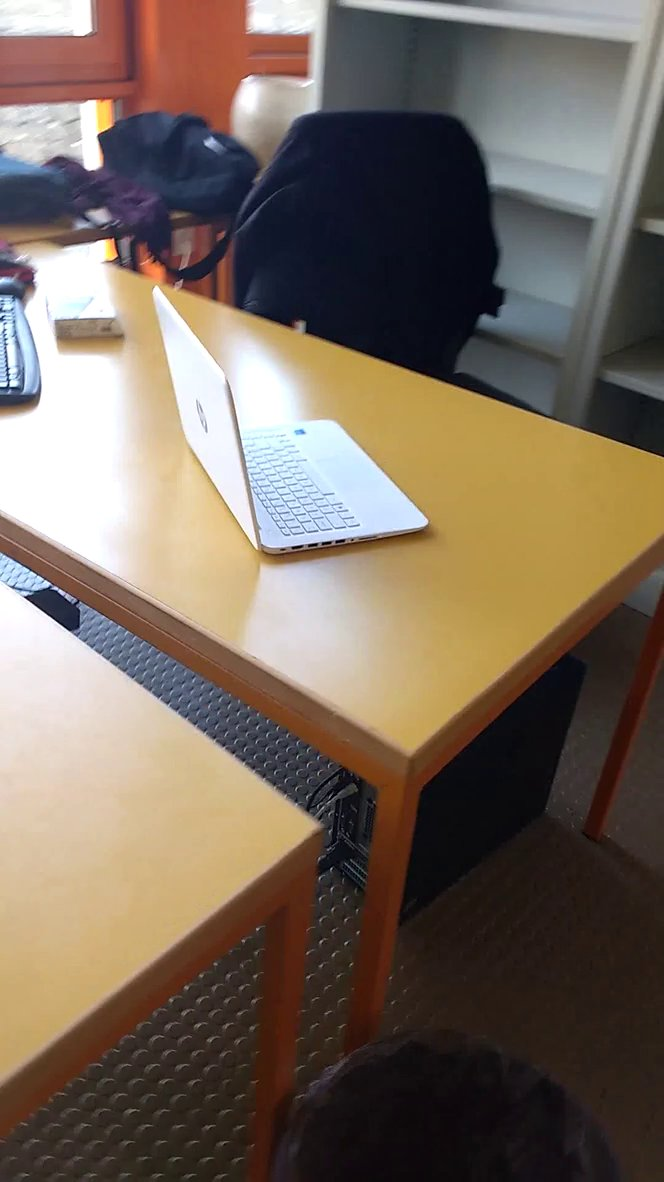bag: (97, 100, 271, 228)
chair: (248, 102, 510, 392)
laptop: (148, 276, 440, 567)
